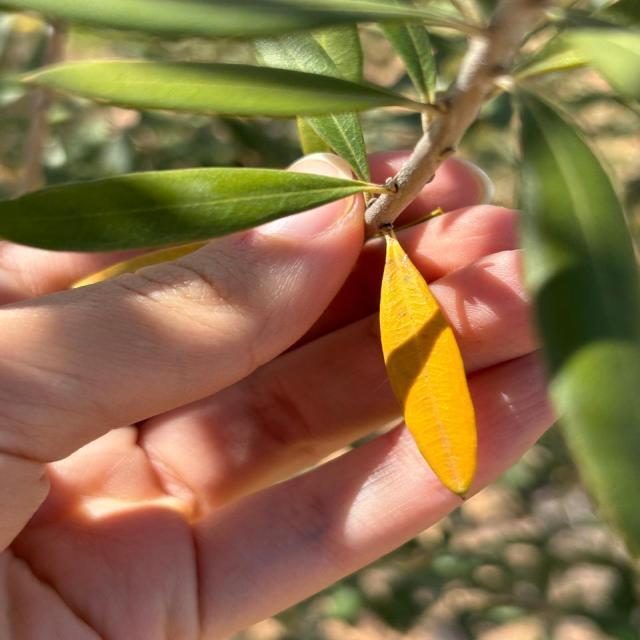OlivePeacockSpot: (379, 231, 476, 498)
